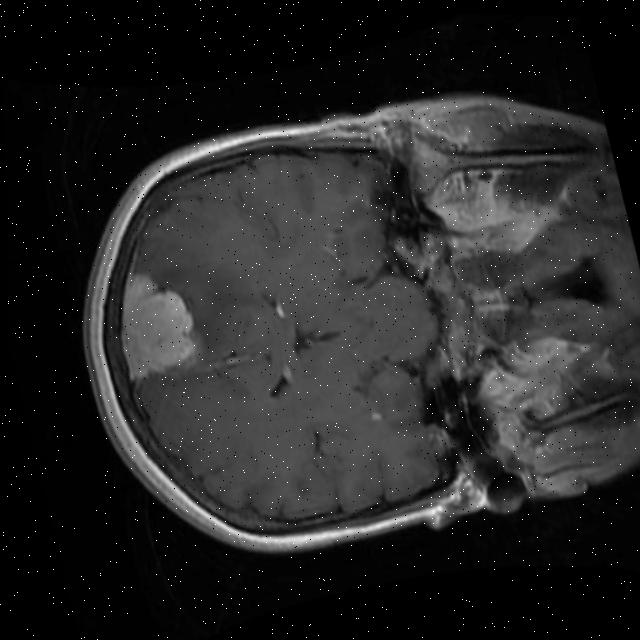Meningioma: (98, 257, 209, 387)
